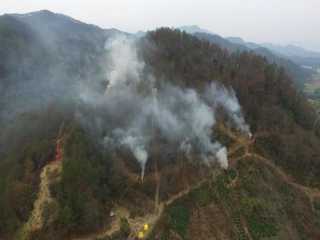smoke: (73, 33, 253, 174)
